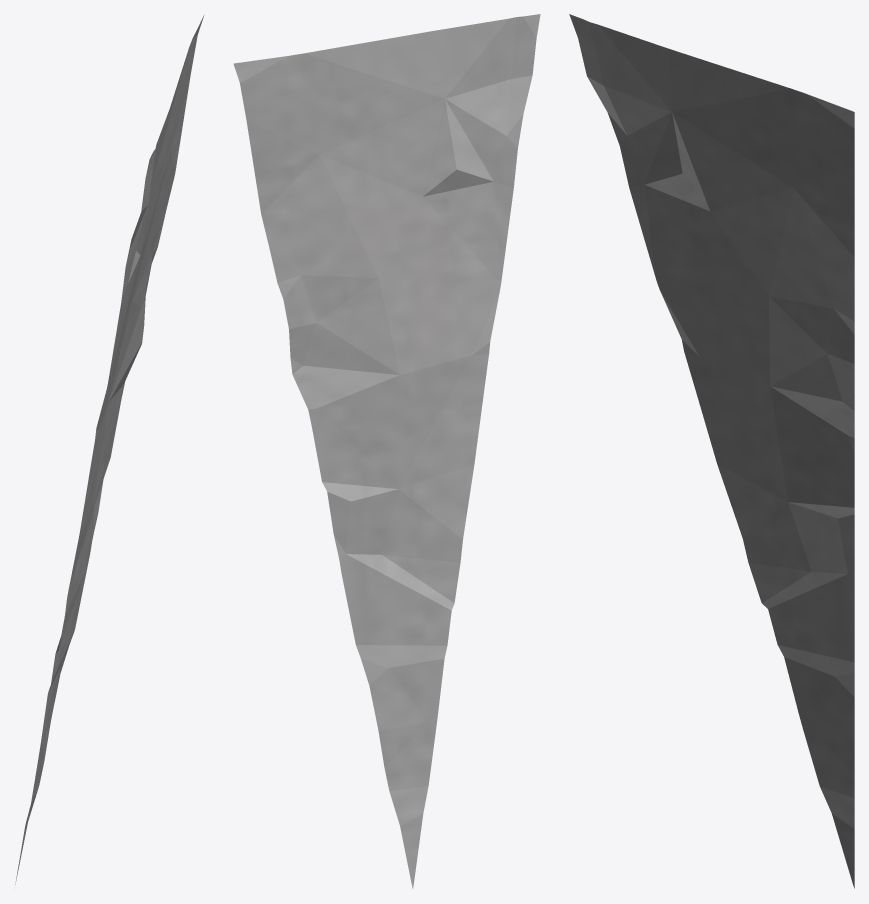
3 views of the same model, side by side, from view 1: azimuth 30°, elevation 25°; view 2: azimuth 150°, elevation 25°; view 3: azimuth 270°, elevation 25° (orthographic). The views are drawn at different scales.
Size of the model in its own units: 0.0937 by 0.3901 by 0.1153.
Materials: 1 (1 with a texture image).
